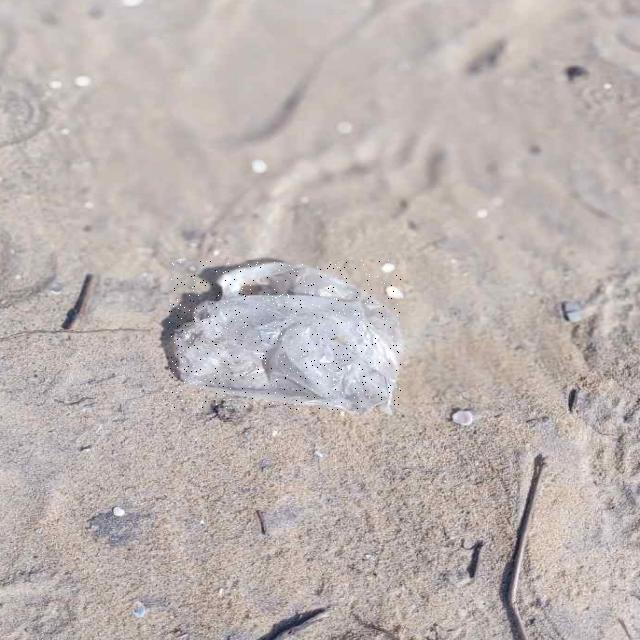plastic: (170, 260, 401, 410)
